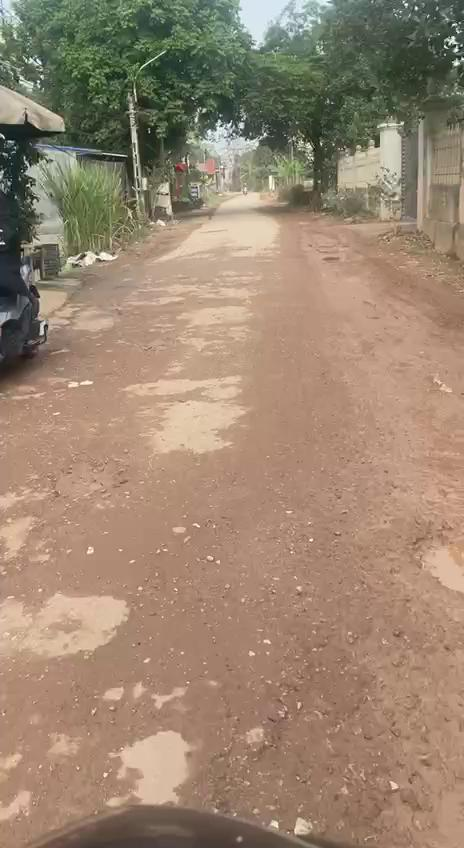pothole: (404, 520, 464, 598)
